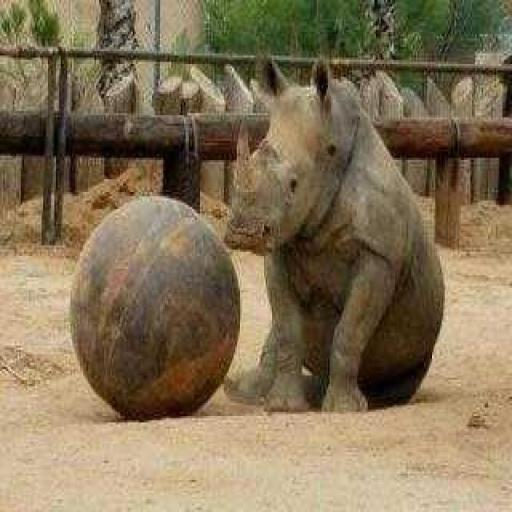Rhino: (222, 55, 445, 412), (67, 192, 240, 420)
